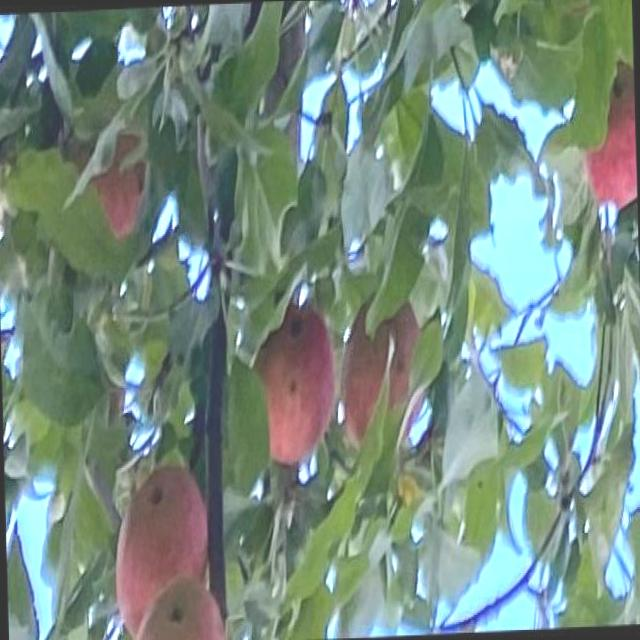Apple: (115, 469, 209, 640), (252, 304, 336, 465), (338, 298, 424, 450), (582, 65, 636, 212), (132, 575, 225, 640), (86, 144, 146, 240)
